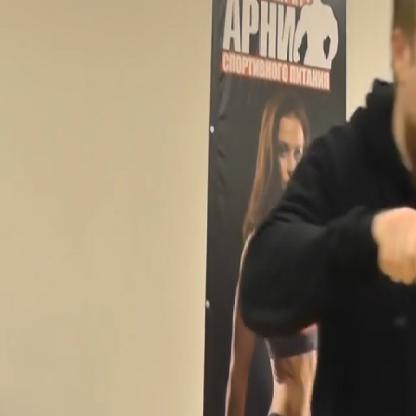knife: (375, 196, 415, 302)
